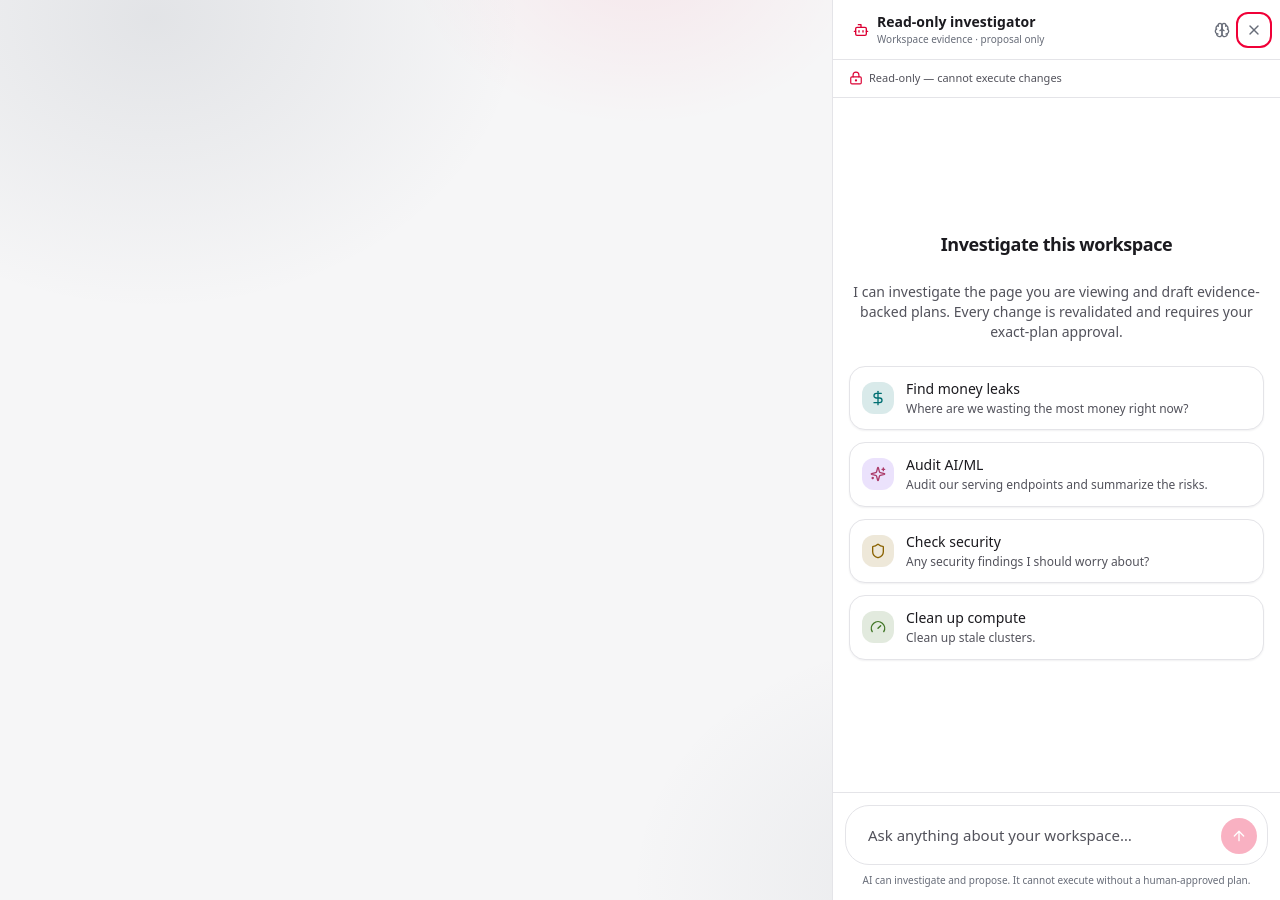
Scenario: mobile context memory isolates the covered chat and restores focus on close
Expected: the dialog "Read-only investigator" is shown, [832,0,1279,899]
Click the button named "Show context memory" at (1222, 30), box [1208,16,1236,44]
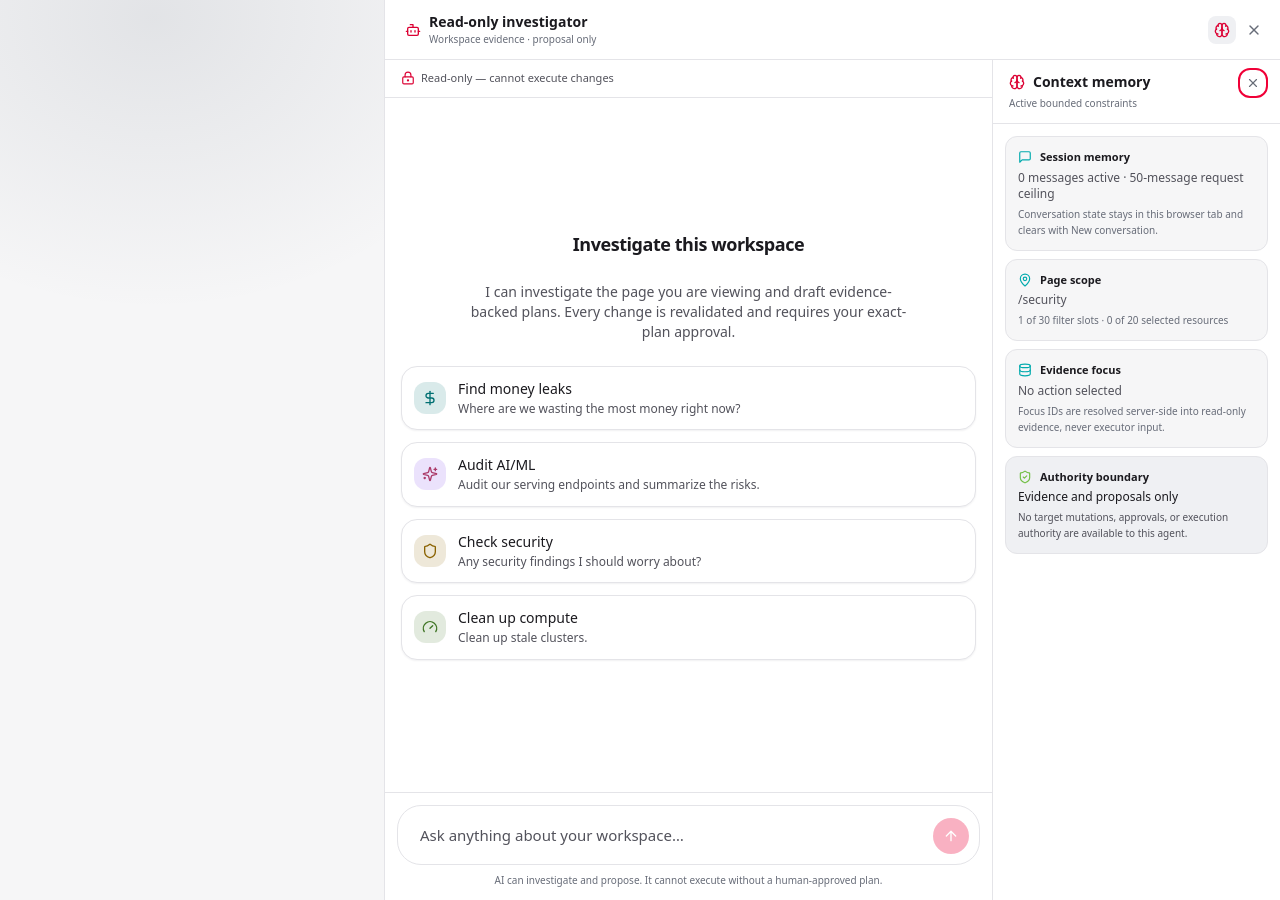
Expected: the heading "Context memory" is shown, [1009,72,1150,92]
Expected: the text "Active bounded constraints" is shown, [1009,96,1150,111]
Expected: the text "0 messages active · 50-message request ceiling" is shown, [1018,170,1255,202]
Press Tab
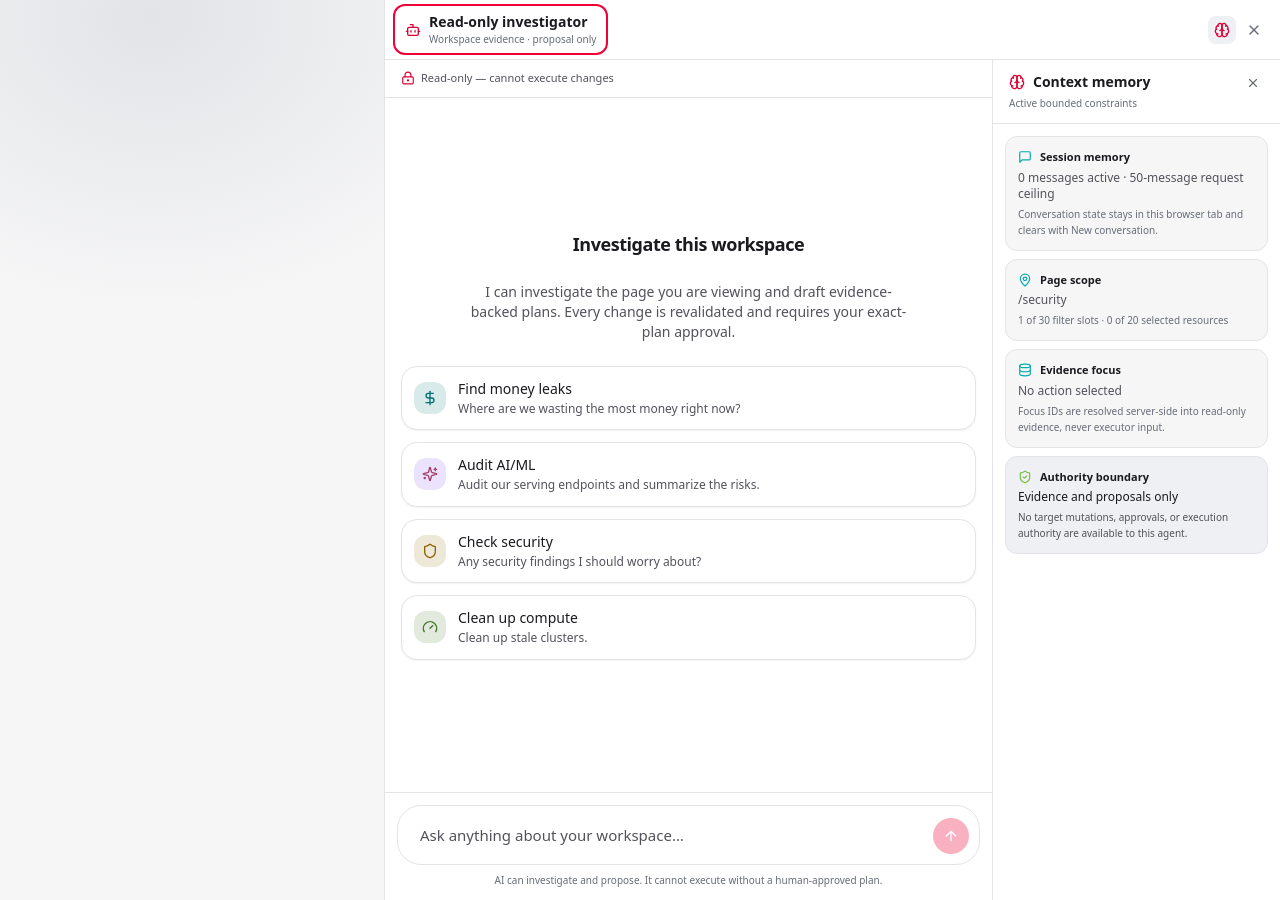
Click the button named "Close context memory" at (1253, 83), box [1242,72,1264,94]
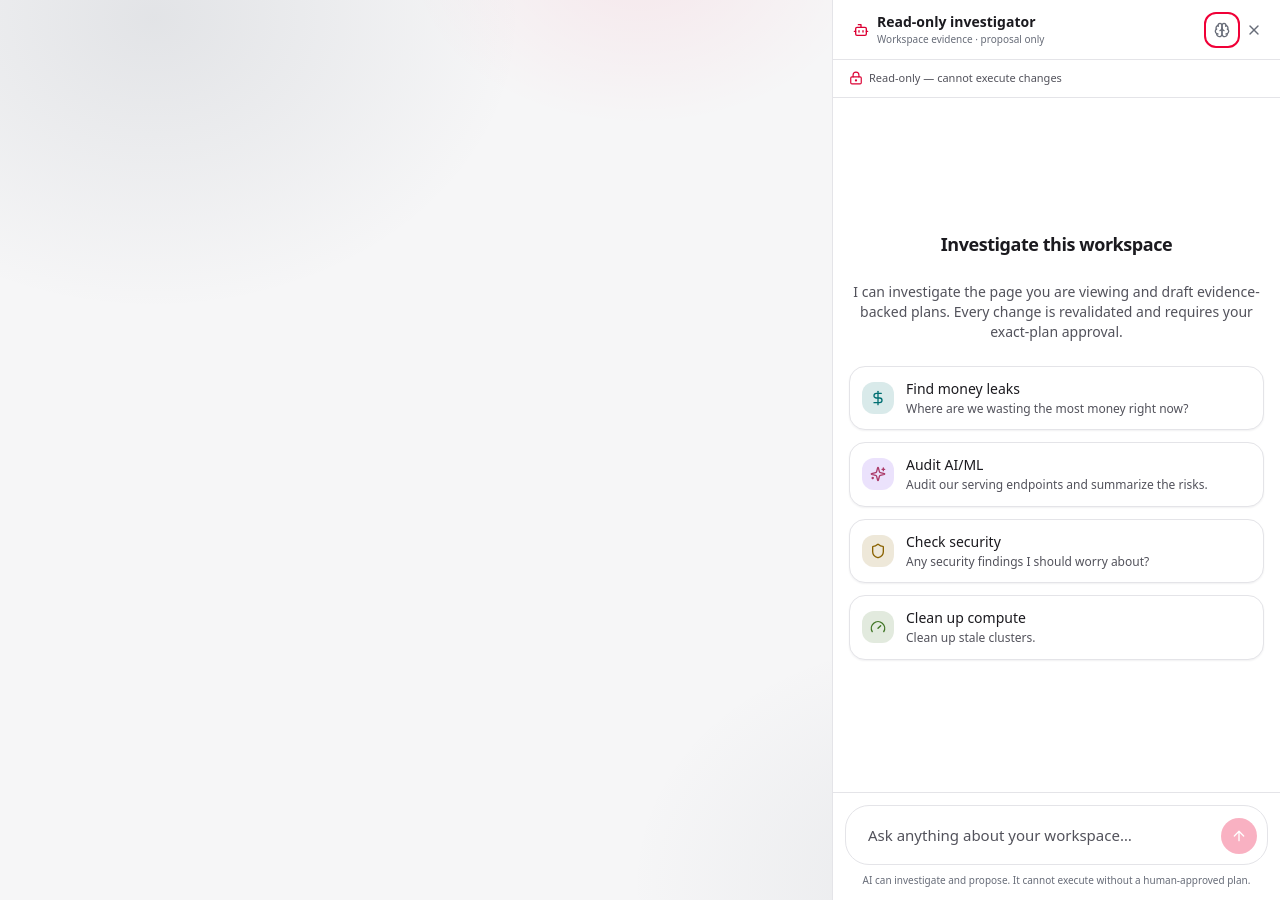
Expected: the heading "Context memory" is gone
Expected: the button named "Show context memory" is collapsed, [1208,16,1236,44]
